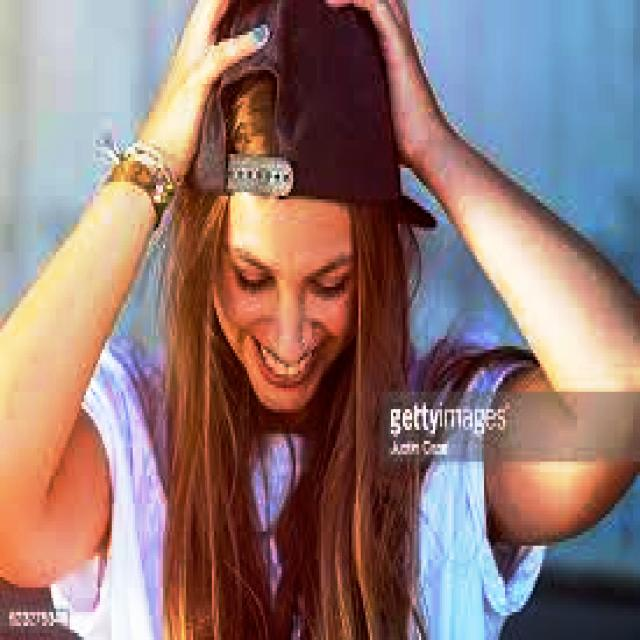TOPI: (196, 0, 428, 232)
